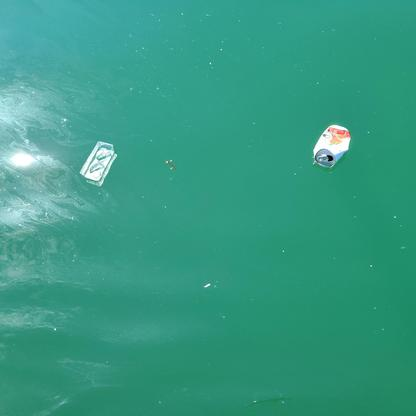can: (314, 124, 352, 166)
